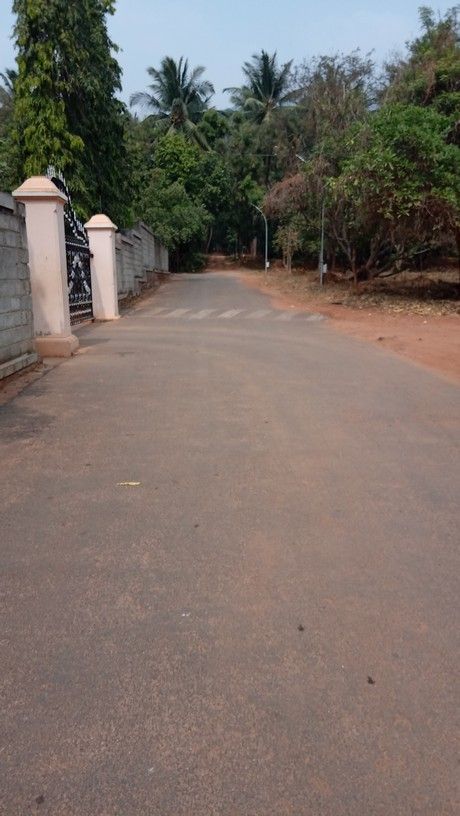bump: (126, 300, 332, 325)
